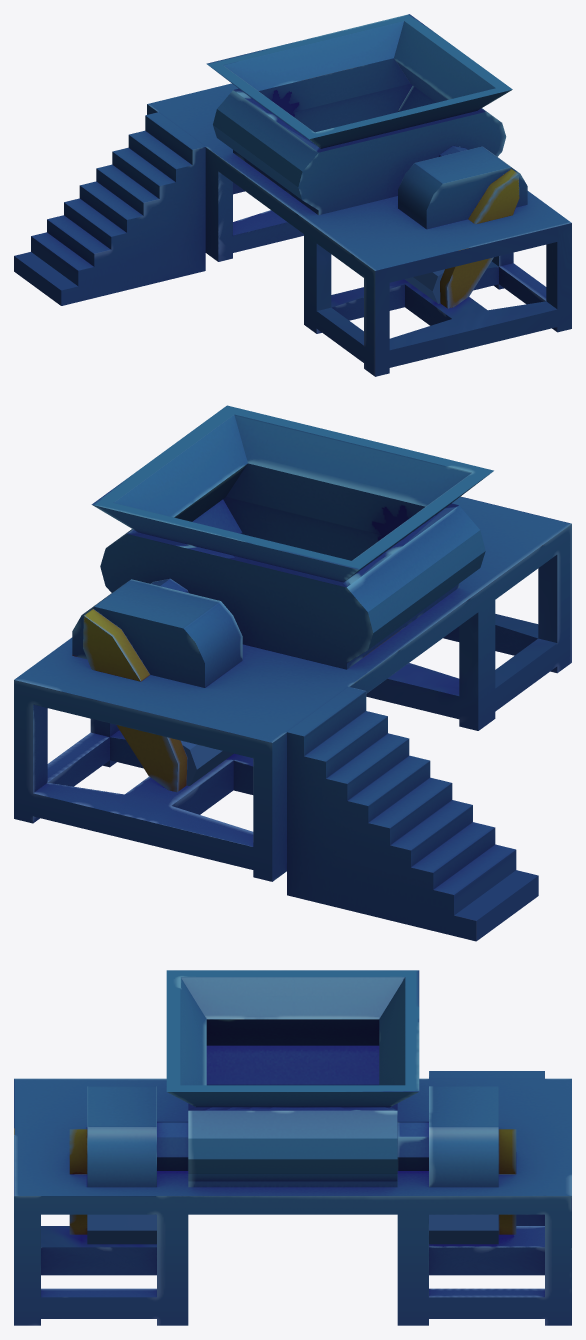
Rendered from Mesing Penggiling.fbx.
3 renders of one model, top to bottom at view 1: azimuth 30°, elevation 25°; view 2: azimuth 150°, elevation 25°; view 3: azimuth 270°, elevation 25°, orthographic. The views are drawn at different scales.
Parts seen in each view (by area): view 1: Mesin Penggiling; view 2: Mesin Penggiling; view 3: Mesin Penggiling.
Boxes of the visible parts, box(x1,y1,x2,y2) form: Mesin Penggiling: box(14, 14, 571, 376); Mesin Penggiling: box(14, 405, 571, 941); Mesin Penggiling: box(14, 970, 571, 1325).
Size of the model in its own units: 352 by 205 by 402.
Materials: 1 (1 with a texture image).
